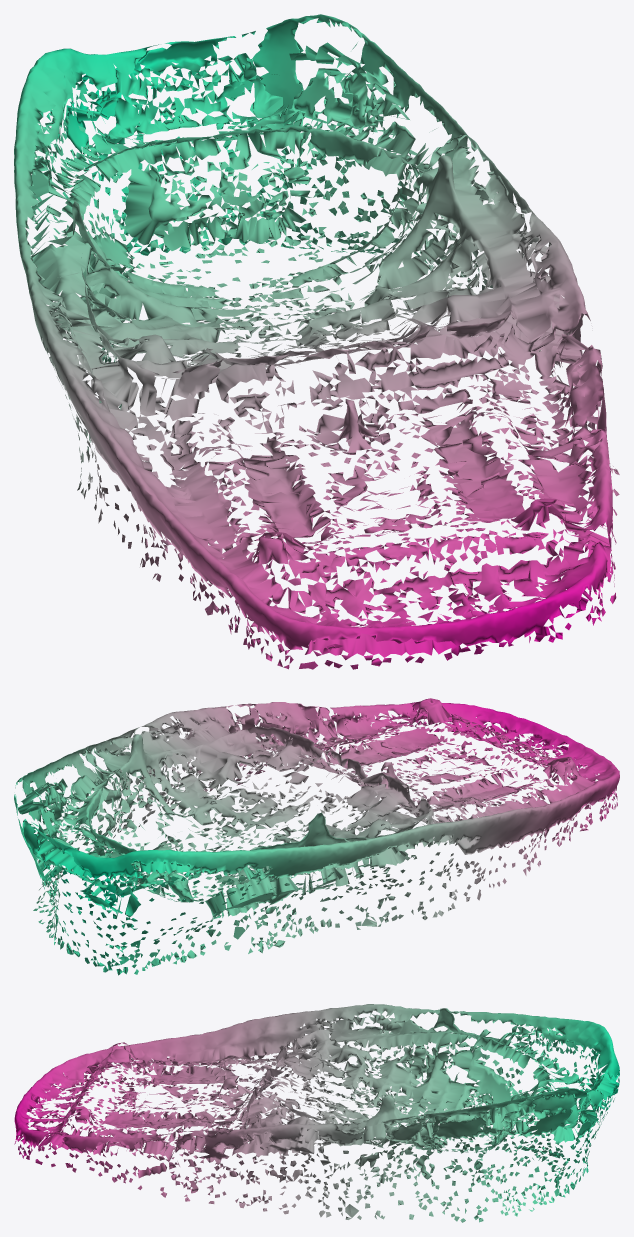
The model's file is seat_only_backside_clean2.glb.
The picture shows the model from 3 angles, top to bottom: view 1: azimuth 30°, elevation 25°; view 2: azimuth 150°, elevation 25°; view 3: azimuth 270°, elevation 25°; orthographic projection. The views are drawn at different scales.
Bounding box in the file's own units: 0.4124 × 0.1711 × 0.7225.
